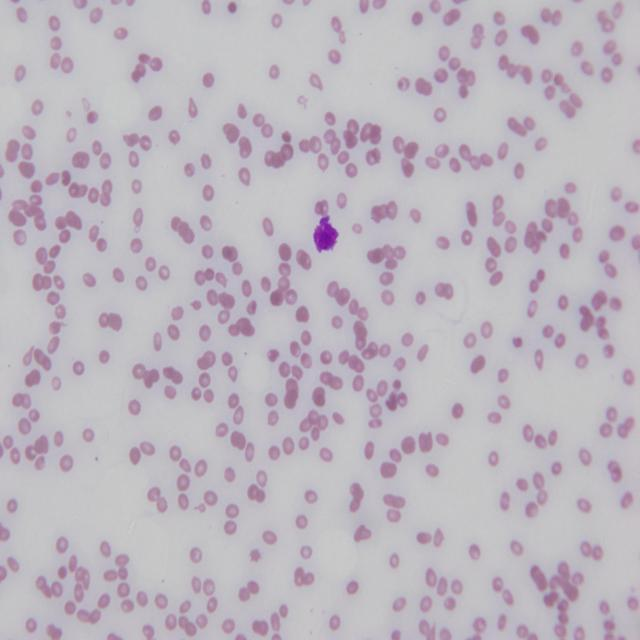cell: (314, 215, 339, 252)
